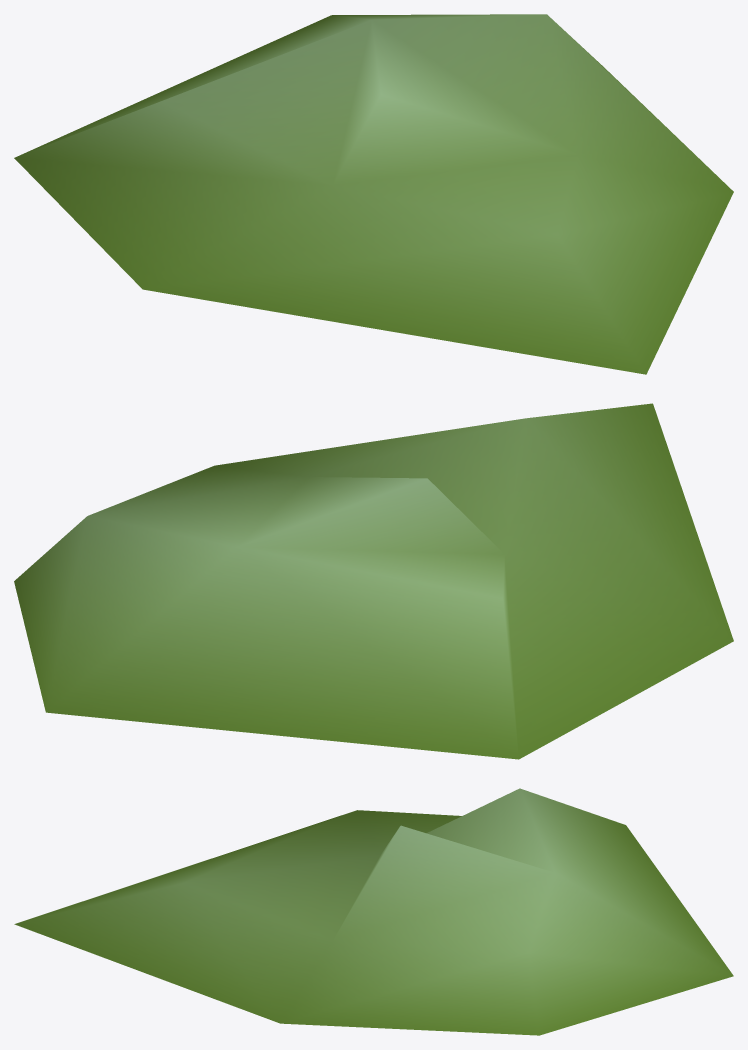
Rendered from Hill003.glb.
3 views of the same model, one above another, from view 1: azimuth 30°, elevation 25°; view 2: azimuth 150°, elevation 25°; view 3: azimuth 270°, elevation 25° (orthographic). The views are drawn at different scales.
Visible parts, largest first — view 1: Hill003; view 2: Hill003; view 3: Hill003.
Part boxes in pixels (<box>): Hill003: <box>14,14,733,374</box>; Hill003: <box>14,403,733,759</box>; Hill003: <box>14,788,733,1035</box>.
Bounding box in the file's own units: 566 × 104 × 764.
Materials: 1 (1 with a texture image).
